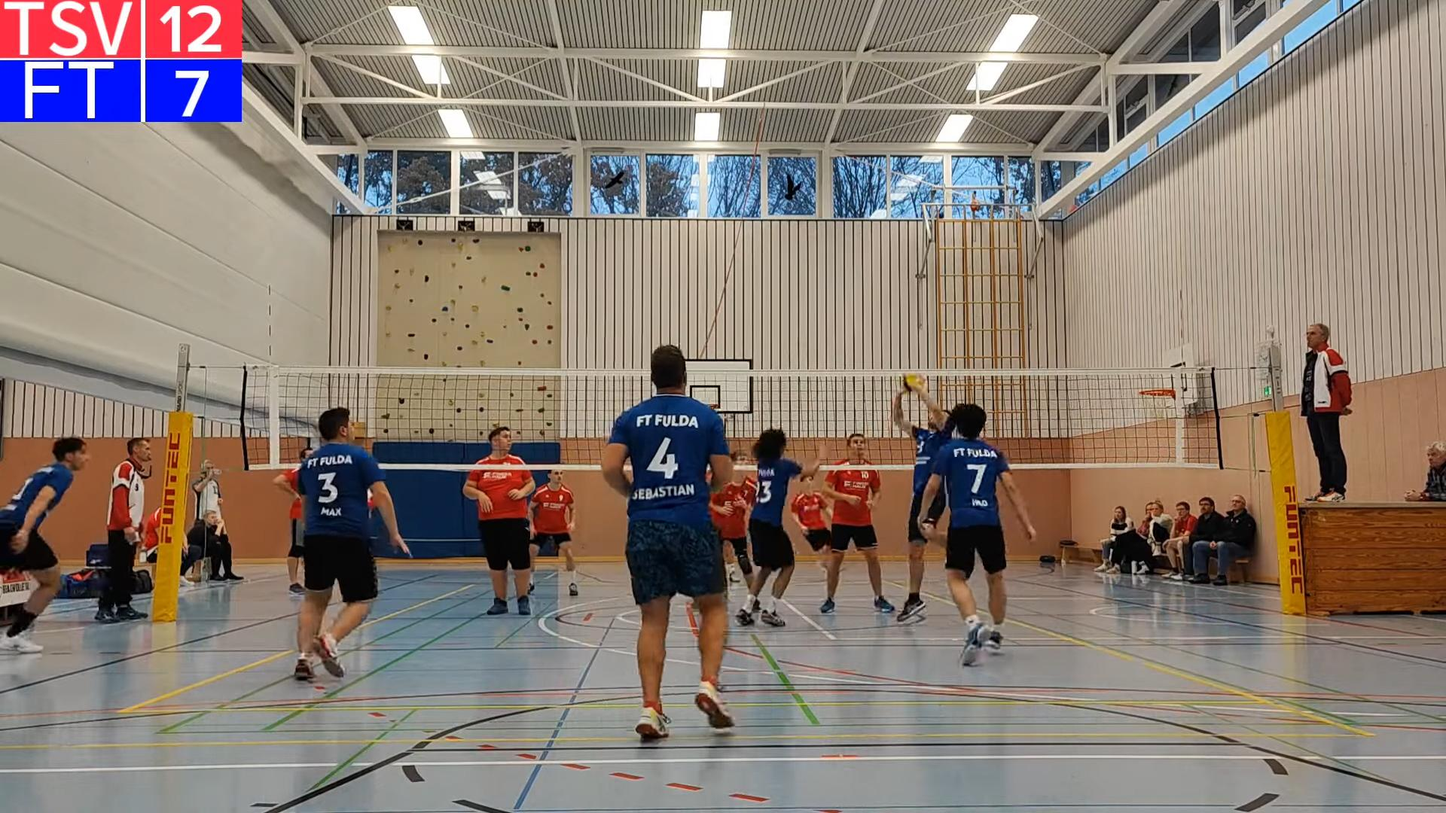alzata: (884, 391, 956, 624)
